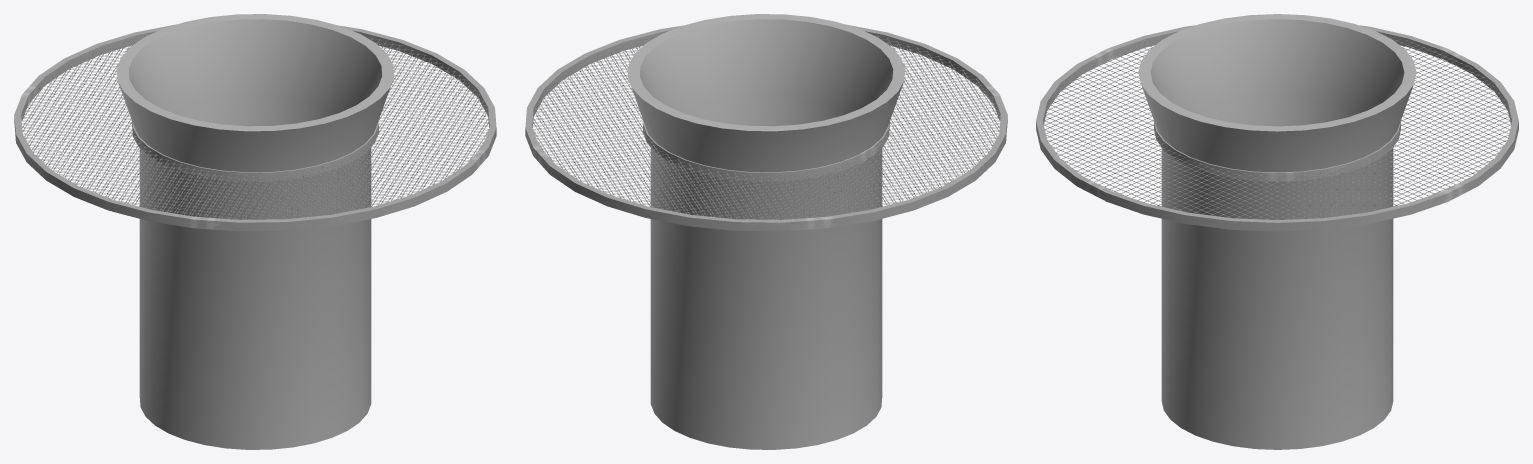
Rendered from SM_CoolantTower_LSE_InsideCenter.fbx.
3 renders of one model, left to right at view 1: azimuth 30°, elevation 25°; view 2: azimuth 150°, elevation 25°; view 3: azimuth 270°, elevation 25°, orthographic.
Visible parts, largest first — view 1: Cylinder, Cylinder.003, Cylinder.001, Cylinder.002; view 2: Cylinder, Cylinder.003, Cylinder.001, Cylinder.002; view 3: Cylinder, Cylinder.003, Cylinder.001, Cylinder.002.
Boxes of the visible parts, x1,y1,x2,y2 form: Cylinder: [116, 14, 394, 449]; Cylinder.003: [21, 36, 489, 219]; Cylinder.001: [14, 24, 496, 231]; Cylinder.002: [132, 121, 378, 181]; Cylinder: [627, 14, 905, 449]; Cylinder.003: [532, 36, 1000, 219]; Cylinder.001: [525, 24, 1007, 231]; Cylinder.002: [643, 121, 889, 181]; Cylinder: [1138, 14, 1416, 449]; Cylinder.003: [1043, 35, 1511, 219]; Cylinder.001: [1036, 25, 1518, 231]; Cylinder.002: [1154, 121, 1400, 181].
Size of the model in its own units: 2000 by 1500 by 2000.
